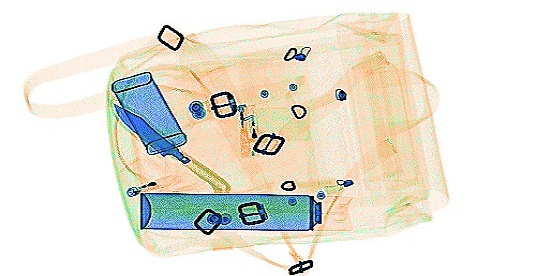knife: (108, 101, 231, 194)
lighter: (124, 169, 184, 198), (235, 102, 257, 156)
pressure: (137, 190, 350, 230)
zippooil: (107, 69, 186, 153)
